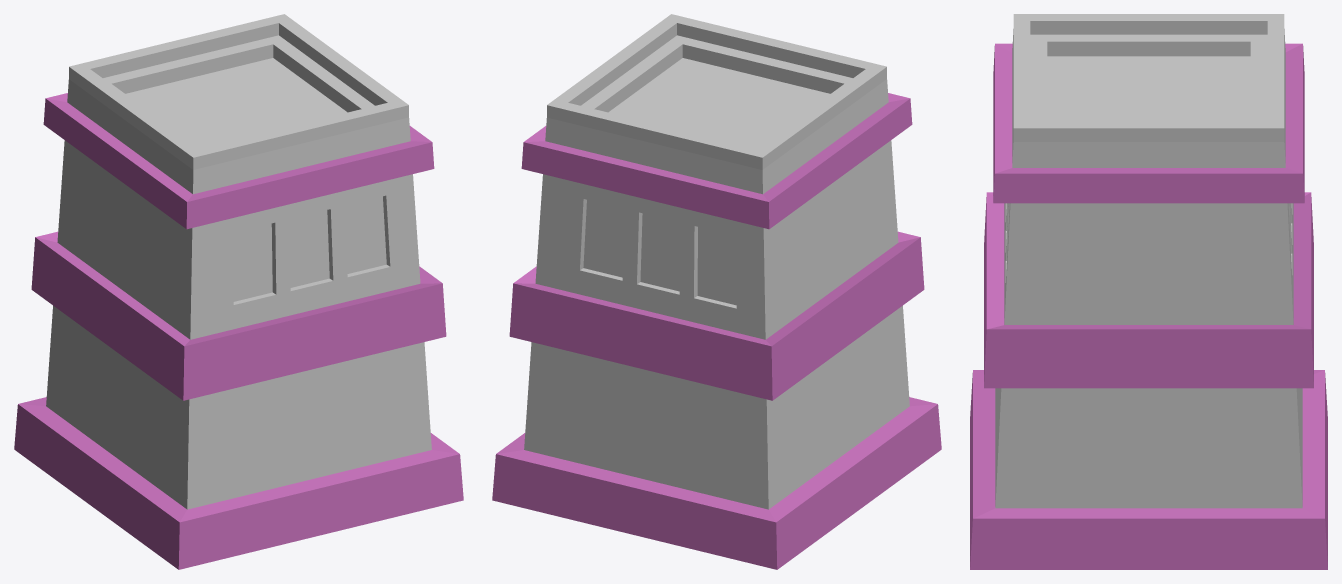
The model's file is Statue.fbx.
3 renders of one model, left to right at view 1: azimuth 30°, elevation 25°; view 2: azimuth 150°, elevation 25°; view 3: azimuth 270°, elevation 25°, orthographic. The views are drawn at different scales.
Visible parts, largest first — view 1: Cube; view 2: Cube; view 3: Cube.
Boxes of the visible parts, x1,y1,x2,y2 form: Cube: (14, 14, 463, 569); Cube: (492, 14, 941, 569); Cube: (970, 14, 1327, 569).
Bounding box in the file's own units: 229 × 299 × 229.
